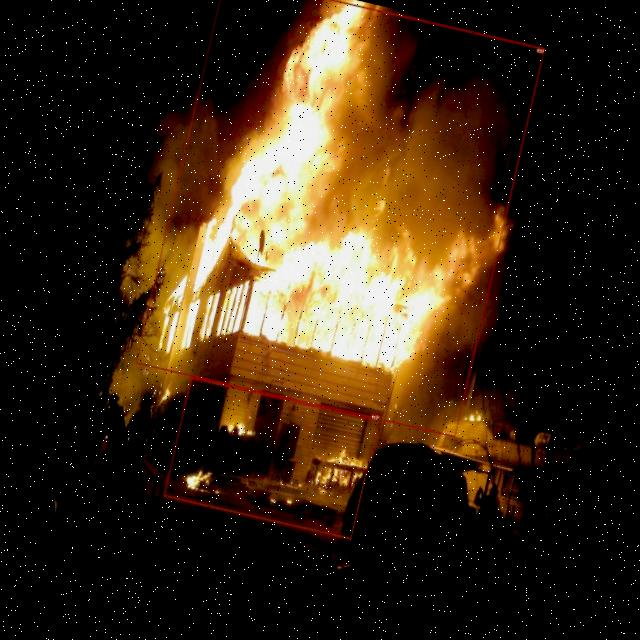fire: (135, 0, 544, 437), (163, 376, 378, 540)
